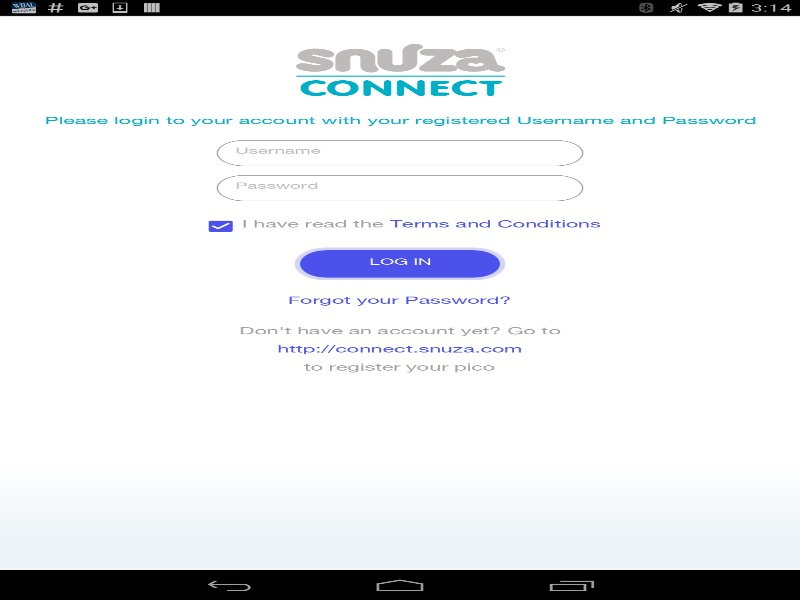Button: (294, 247, 505, 280)
Input: (216, 140, 583, 166), (216, 175, 583, 201)
